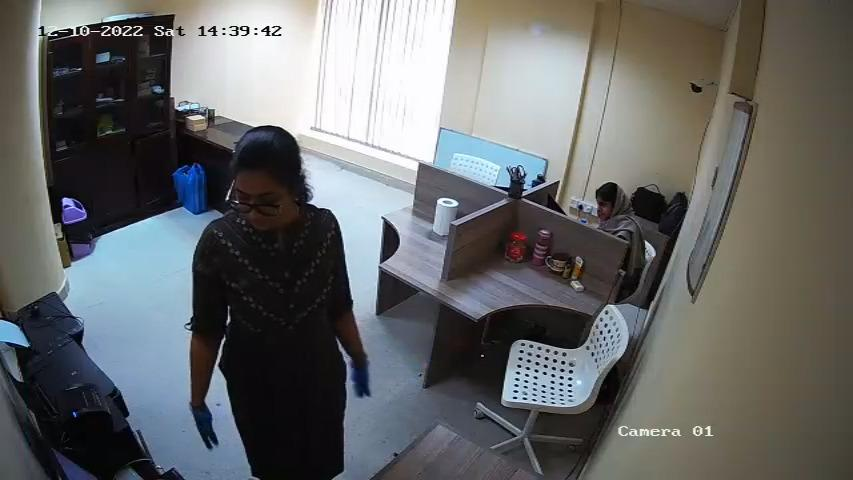gloves: (189, 398, 223, 456), (349, 352, 375, 403)
